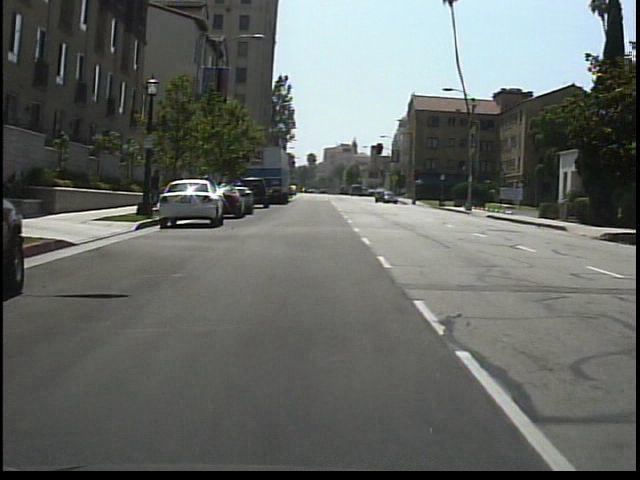person: (147, 166, 165, 212)
